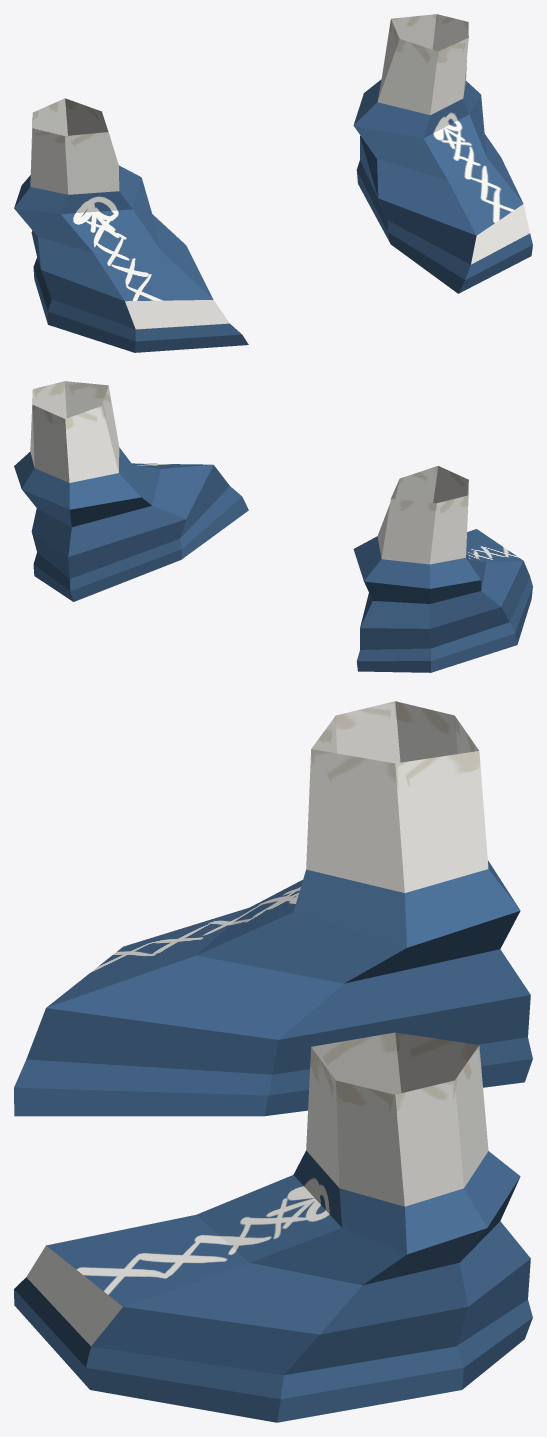
The model's file is sneakers.fbx.
3 views of the same model, one above another, from view 1: azimuth 30°, elevation 25°; view 2: azimuth 150°, elevation 25°; view 3: azimuth 270°, elevation 25° (orthographic). The views are drawn at different scales.
Parts seen in each view (by area): view 1: Sneakers; view 2: Sneakers; view 3: Sneakers.
Part boxes in pixels (x1,y1,x2,y2): Sneakers: [14, 14, 532, 352]; Sneakers: [14, 381, 532, 672]; Sneakers: [14, 701, 532, 1422].
Bounding box in the file's own units: 105 × 36.24 × 54.5.
